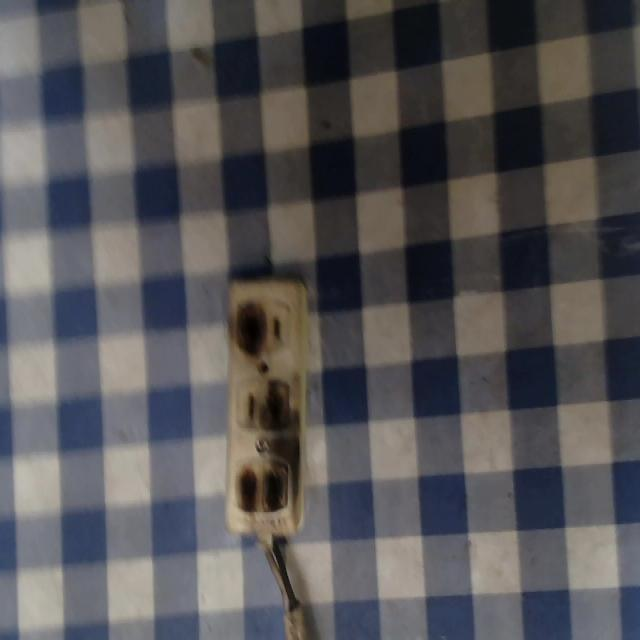-: (223, 456, 296, 537), (236, 296, 269, 356), (263, 379, 290, 433)
